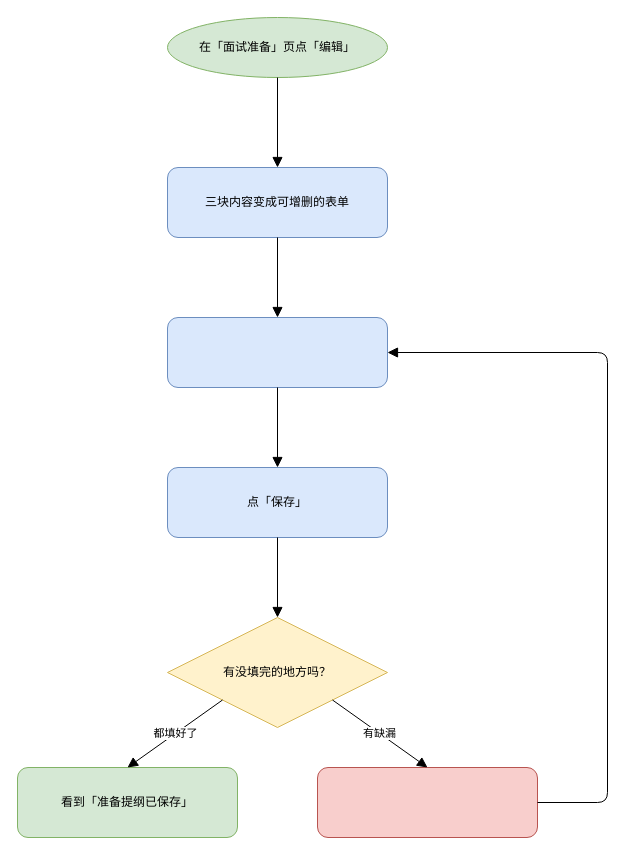
Some shapes in this 635 by 855 pixel diagram are drawn without their labels. The shapes that lost their labels are listed below. From the top down, each one's centre as x and y in pixels, then its label:
At (x=277, y=352): "用「添加阶段」「添加一项」 「添加问题」加行，用「×」删行".
At (x=427, y=802): "看到「有几处还没填完， 已在对应位置标出」".
